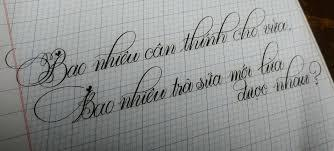text: (4, 7, 292, 89), (32, 39, 286, 125), (231, 53, 322, 102)
